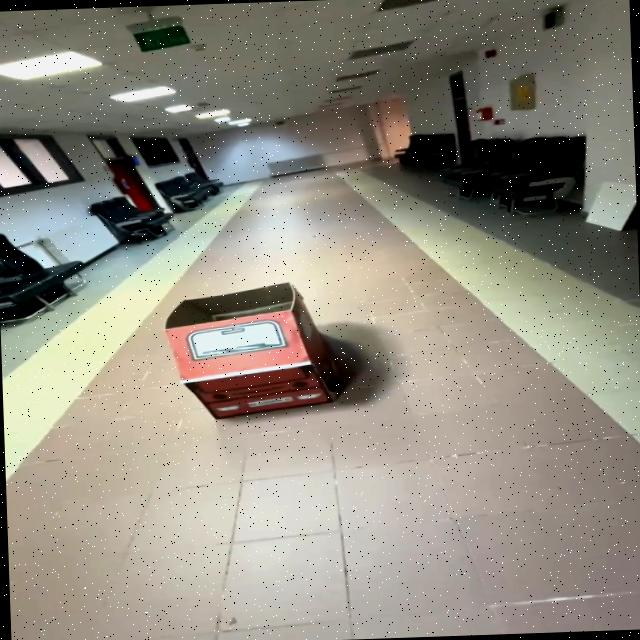red_car: (154, 272, 386, 421)
